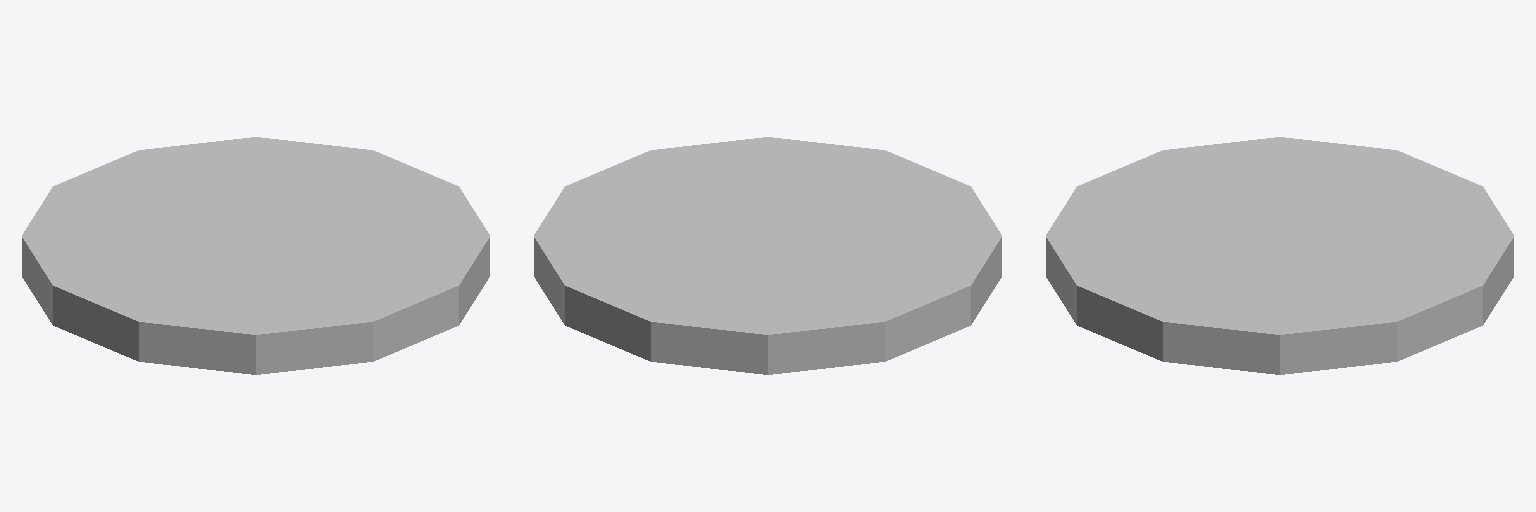
Rendered from Nickel.obj.
3 renders of one model, left to right at view 1: azimuth 30°, elevation 25°; view 2: azimuth 150°, elevation 25°; view 3: azimuth 270°, elevation 25°, orthographic.
Visible parts, largest first — view 1: Nickel; view 2: Nickel; view 3: Nickel.
Part boxes in pixels (bbox=[...]): Nickel: bbox=[22, 137, 489, 374]; Nickel: bbox=[534, 137, 1001, 374]; Nickel: bbox=[1046, 137, 1513, 374].
Bounding box in the file's own units: 1.04 × 0.0978 × 1.04.